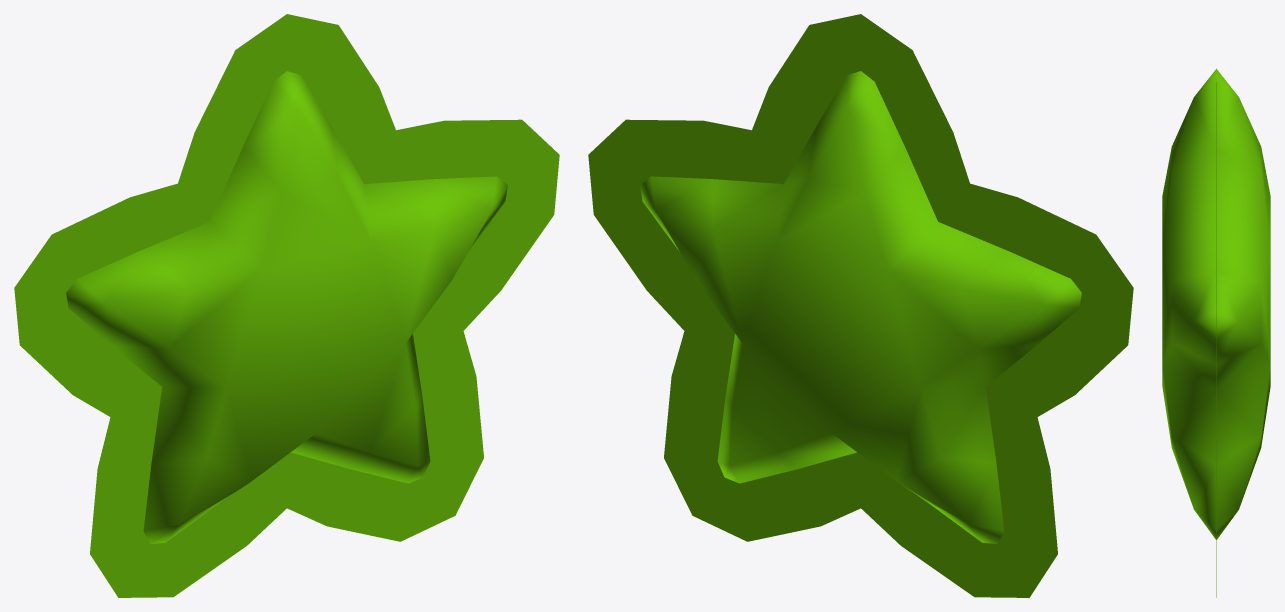
File: StarInnerNight.glb
3 renders of one model, left to right at view 1: azimuth 30°, elevation 25°; view 2: azimuth 150°, elevation 25°; view 3: azimuth 270°, elevation 25°, orthographic. The views are drawn at different scales.
Parts seen in each view (by area): view 1: StarInnerNight; view 2: StarInnerNight; view 3: StarInnerNight.
Boxes of the visible parts, left/top/right/bottom form: StarInnerNight: left=14, top=14, right=559, bottom=597; StarInnerNight: left=588, top=14, right=1133, bottom=597; StarInnerNight: left=1162, top=68, right=1270, bottom=597.
Size of the model in its own units: 0.532 by 0.5178 by 0.0982.
2 materials, 2 textured.
